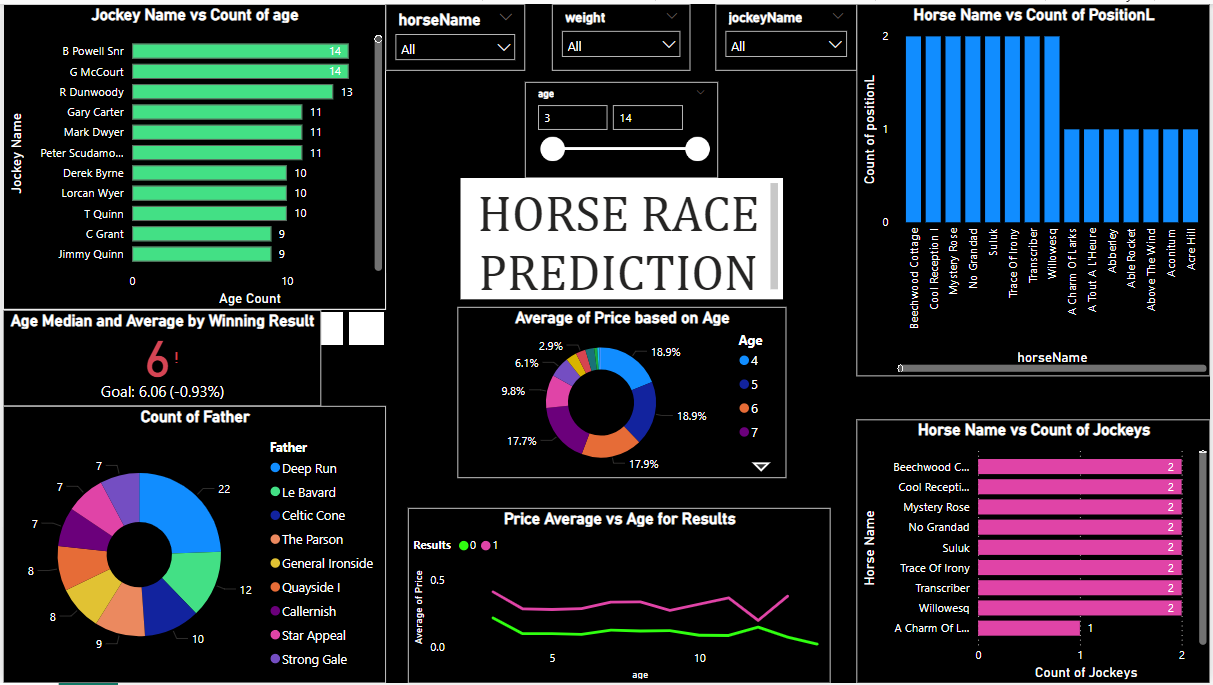

The page's visual inventory and layout, read from the dashboard file:
{"tool":"powerbi","page":{"name":"Page 1","canvas":[1280,720],"ordinal":0},"visuals":[{"type":"barChart","title":"Jockey Name vs Count of age","fields":{"Y":["data.age"],"Category":["data.jockeyName"]},"box":[0,0,406.1,324],"z":0},{"type":"clusteredBarChart","title":"Horse Name vs Count of Jockeys","fields":{"Category":["data.horseName"],"Y":["data.jockeyName"]},"box":[905.1,440.6,375.4,279.9],"z":1000},{"type":"slicer","fields":{"Values":["data.horseName"]},"box":[406.1,0,148.3,70.6],"z":2000},{"type":"slicer","fields":{"Values":["data.weight"]},"box":[581.8,0,146.9,70.6],"z":3000},{"type":"slicer","fields":{"Values":["data.jockeyName"]},"box":[756,0,149.8,70.6],"z":4000},{"type":"kpi","title":"Age Median and Average by Winning Result","fields":{"Indicator":["data.age"],"Goal":["Sum(data.age)1"],"TrendLine":["data.res_win"]},"box":[0,324.5,337.2,101.8],"z":5000},{"type":"donutChart","title":"Count of Father","fields":{"Category":["data.father"],"Y":["data.father"]},"box":[0,426.2,406.1,293.8],"z":6000},{"type":"slicer","fields":{"Values":["data.age"]},"box":[553,82.1,204.5,102.2],"z":7000},{"type":"clusteredColumnChart","title":"Horse Name vs Count of PositionL","fields":{"Category":["data.horseName"],"Y":["data.positionL"]},"box":[905.1,0,375.4,394.5],"z":8000},{"type":"lineChart","title":"Price Average vs Age for Results","fields":{"Series":["data.res_win"],"Category":["data.age"],"Y":["data.decimalPrice"]},"box":[429.1,534.2,447.8,185.8],"z":9000},{"type":"donutChart","title":"Average of Price based on Age","fields":{"Category":["data.age"],"Y":["data.decimalPrice"]},"box":[482,321.3,348.3,181.3],"z":10000},{"type":"textbox","box":[485.1,184.5,342,128.8],"z":11000}]}

Visuals, with their boxes in screenshot pixels (x1, y1, x2, y2), scaled from the page's 1280x720 canvas onto the 1213x685 screenshot:
"Jockey Name vs Count of age" barChart: 0, 0, 385, 308
"Horse Name vs Count of Jockeys" clusteredBarChart: 858, 419, 1212, 684
slicer - data.horseName: 385, 0, 525, 67
slicer - data.weight: 551, 0, 691, 67
slicer - data.jockeyName: 716, 0, 858, 67
"Age Median and Average by Winning Result" kpi: 0, 309, 320, 406
"Count of Father" donutChart: 0, 405, 385, 684
slicer - data.age: 524, 78, 718, 175
"Horse Name vs Count of PositionL" clusteredColumnChart: 858, 0, 1212, 375
"Price Average vs Age for Results" lineChart: 407, 508, 831, 684
"Average of Price based on Age" donutChart: 457, 306, 787, 478
textbox: 460, 176, 784, 298
